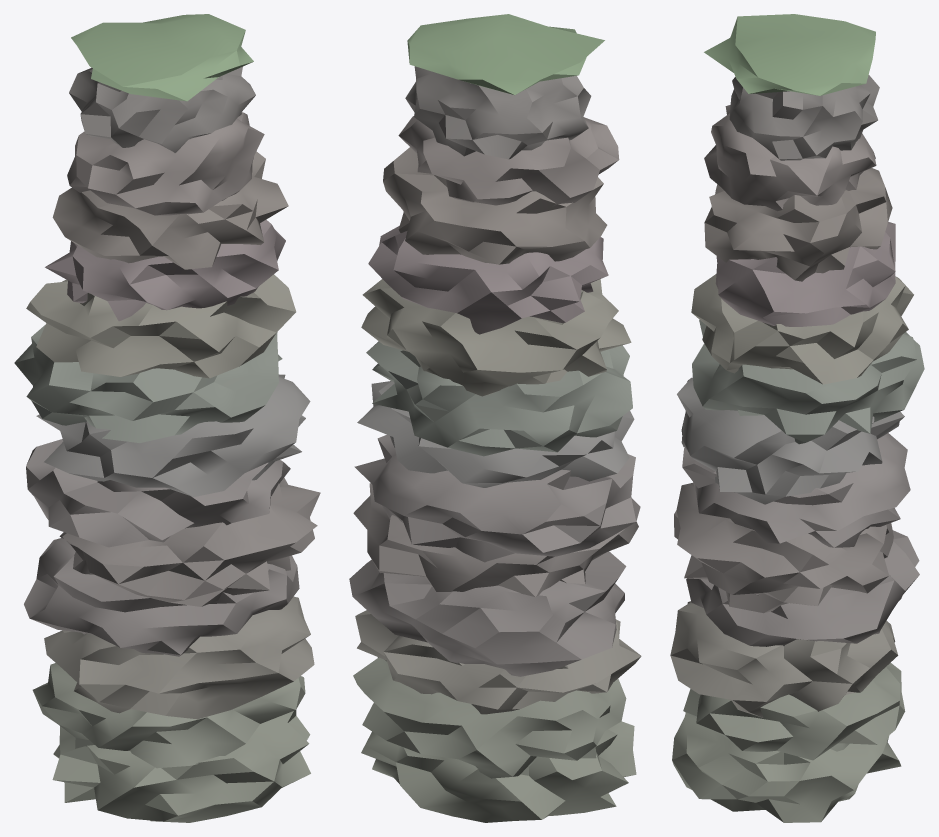
Rendered from sea_stack.gltf.
3 renders of one model, left to right at view 1: azimuth 30°, elevation 25°; view 2: azimuth 150°, elevation 25°; view 3: azimuth 270°, elevation 25°, orthographic. The views are drawn at different scales.
Parts seen in each view (by area): view 1: Body; view 2: Body; view 3: Body.
Boxes of the visible parts, <box> form: Body: <box>14,14,320,822</box>; Body: <box>349,14,641,822</box>; Body: <box>670,14,924,822</box>.
Size of the model in its own units: 14.81 by 39.35 by 12.12.
